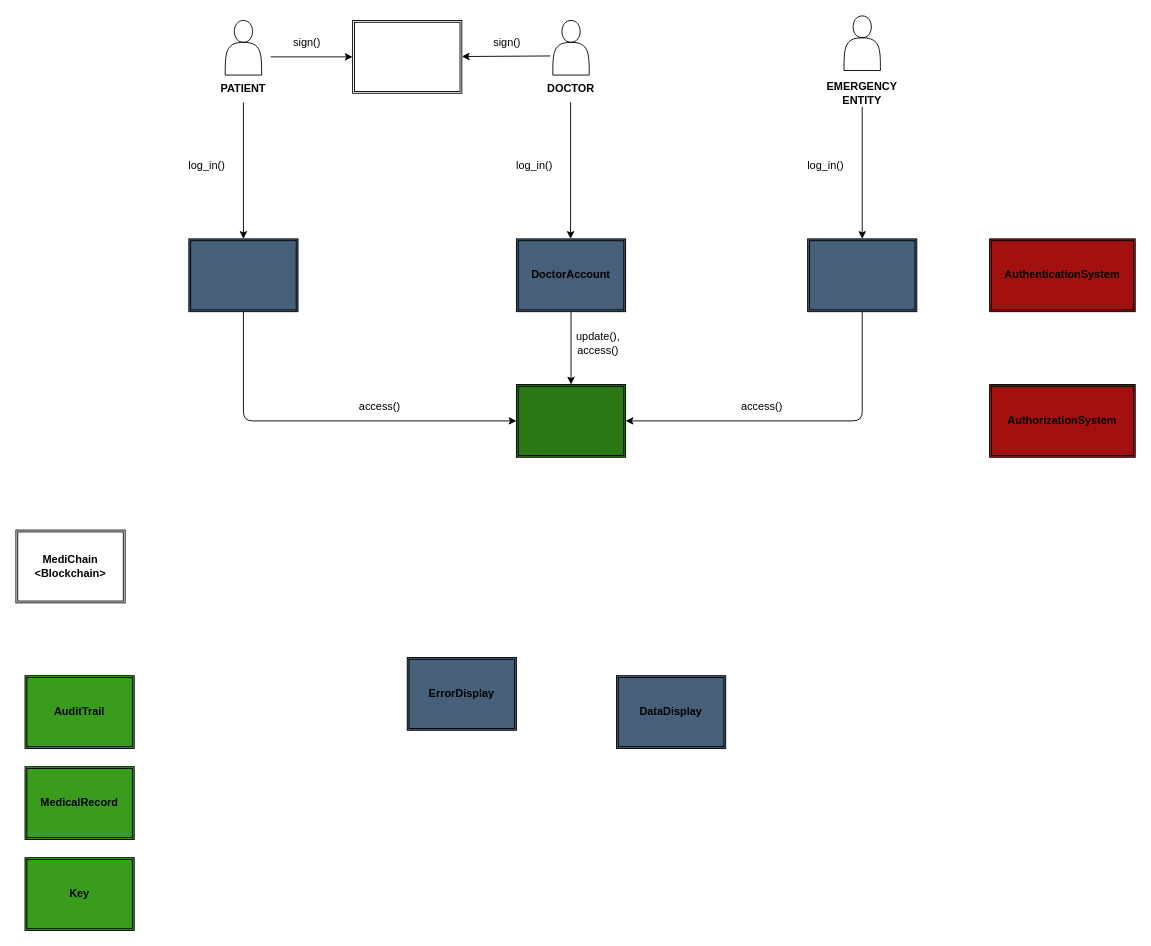
Image size: 1151x946. Some labels were removed from this diagram. Each missing label, with the centre of its shape:
"EmergencyAccount" belongs at [862,275].
"MedicalHistory" belongs at [571,420].
"PatientAccount" belongs at [243,275].
"SmartContract <Singleton>" belongs at [407,56].
